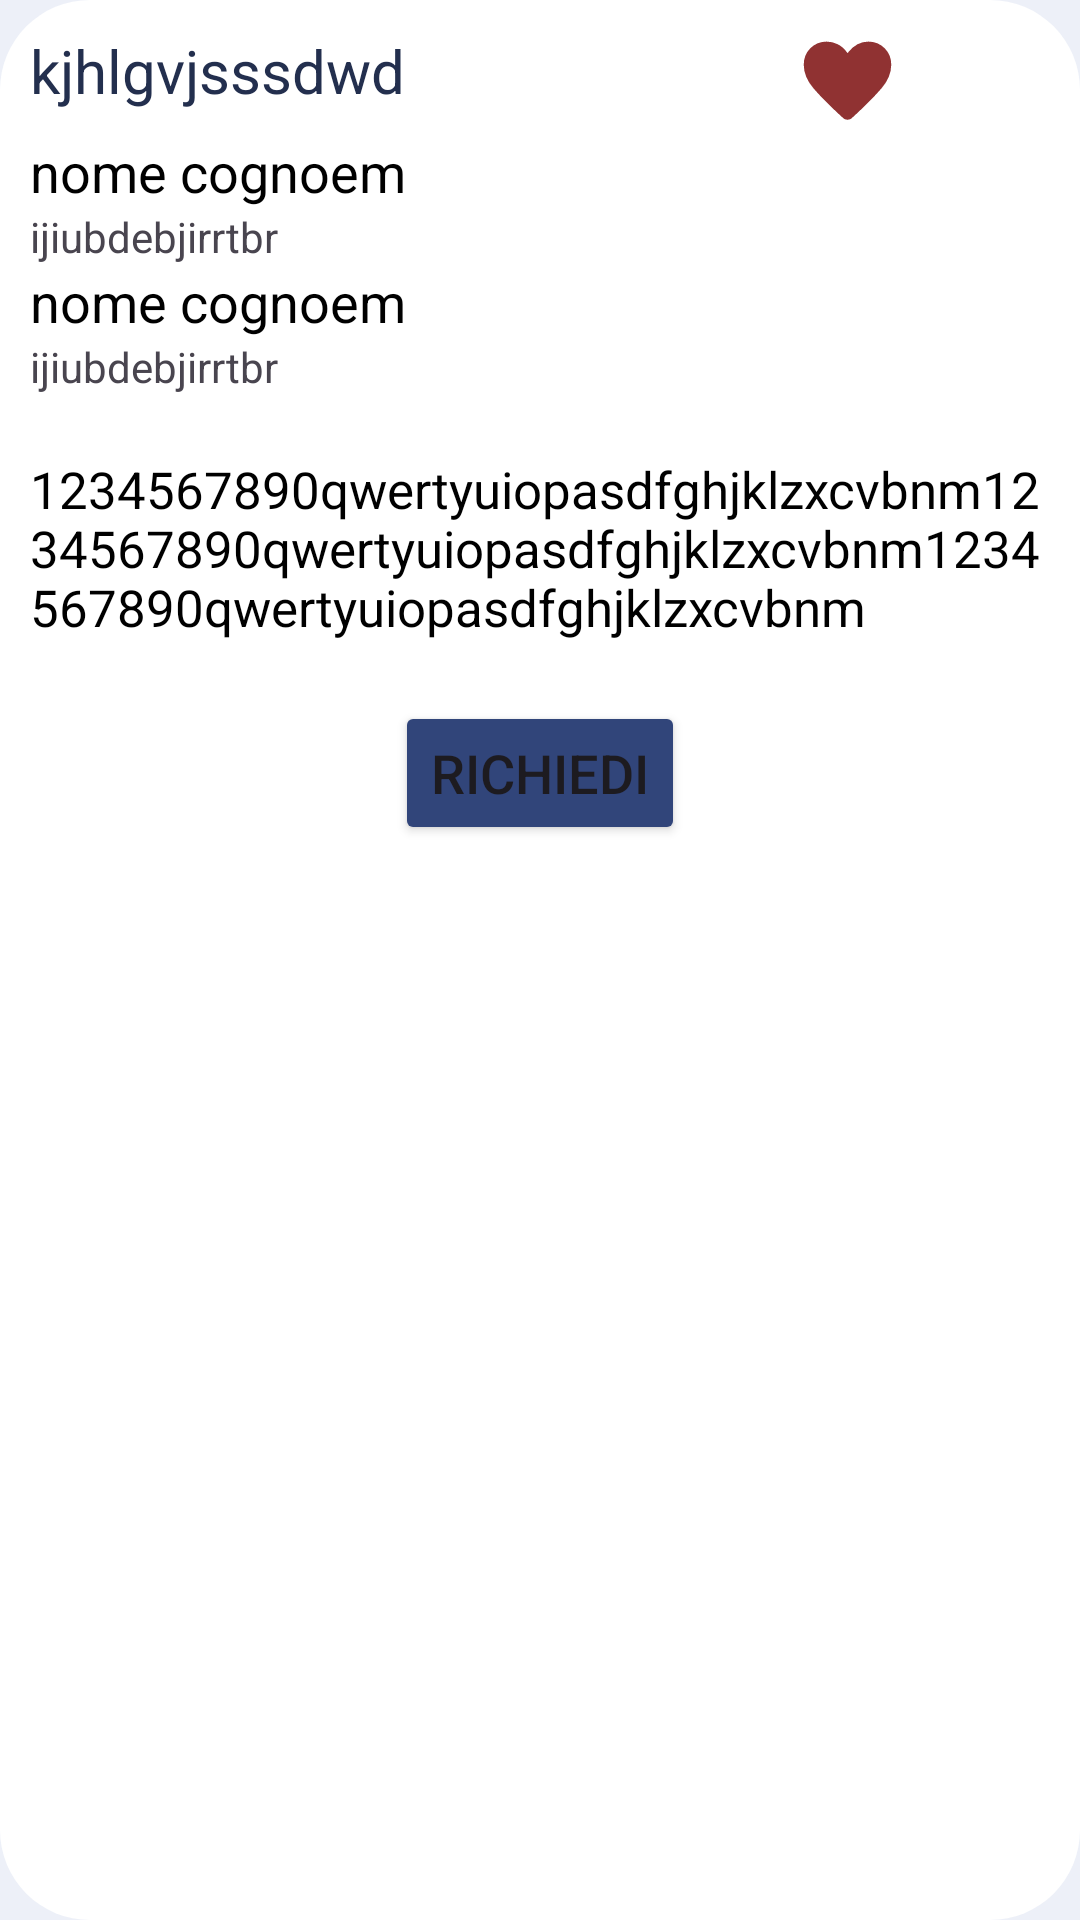

Icon bounding boxes for this 1080×1920 phone screenshot, format {"left": x1, "top": y1, "right": x2, "bottom": y2}:
preferito selezionato: {"left": 803, "top": 41, "right": 892, "bottom": 120}
